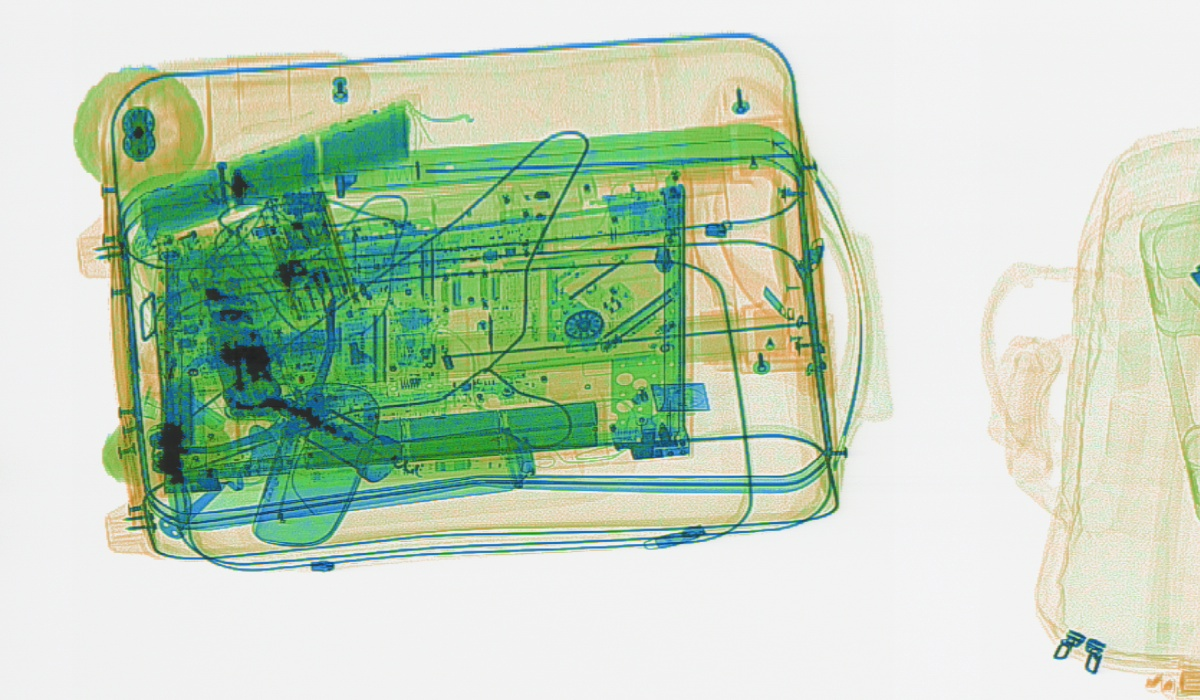lighter: (128, 217, 246, 264), (138, 317, 185, 425)
